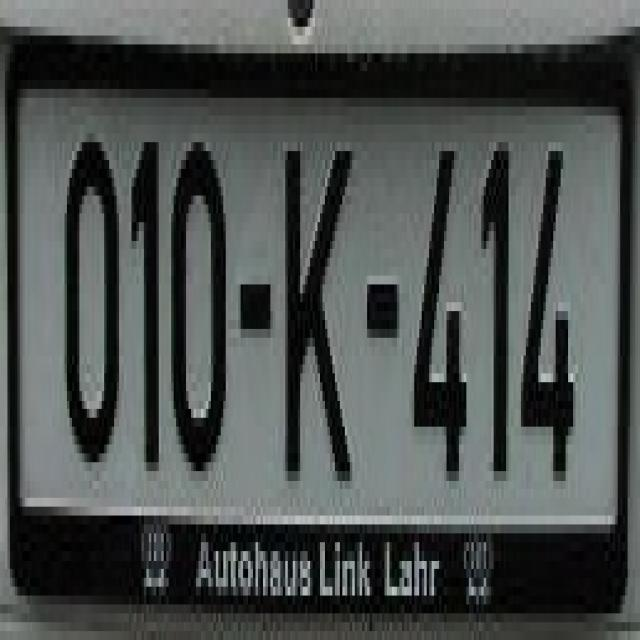0: (166, 133, 228, 480), (65, 124, 122, 472)
1: (124, 107, 164, 462), (476, 124, 514, 489)
4: (516, 133, 583, 498), (407, 124, 469, 489)
K: (276, 124, 352, 489)
